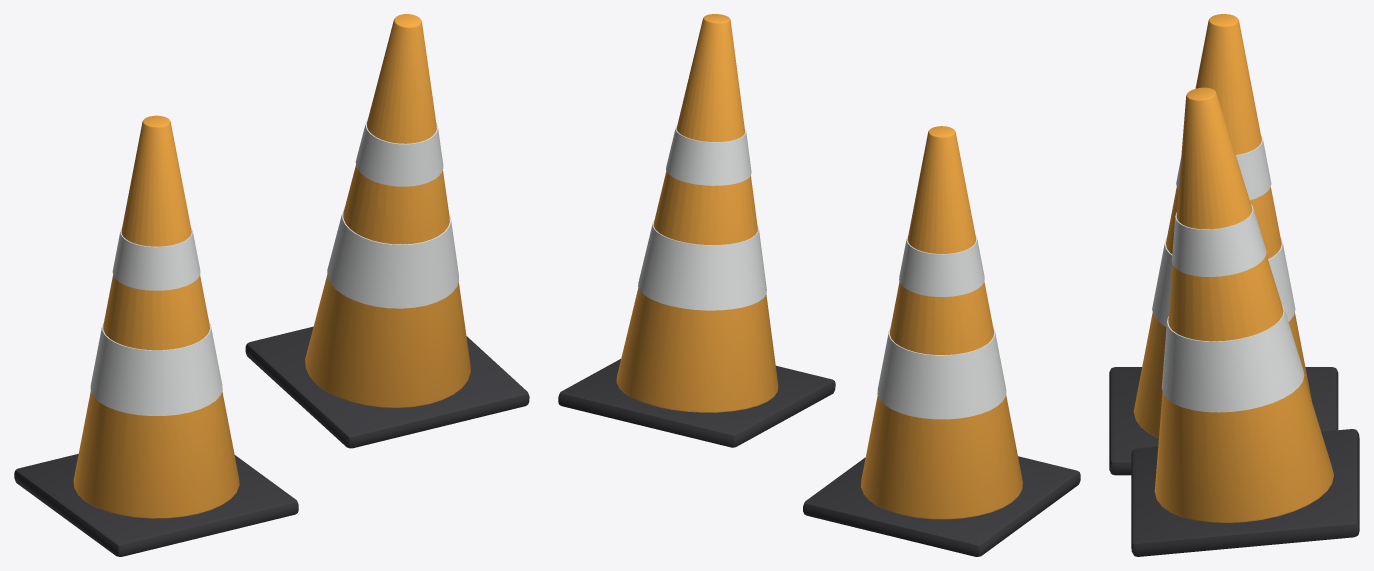
Rendered from SER-EPC-003_anim.glb.
3 renders of one model, left to right at view 1: azimuth 30°, elevation 25°; view 2: azimuth 150°, elevation 25°; view 3: azimuth 270°, elevation 25°, orthographic. The views are drawn at different scales.
Visible parts, largest first — view 1: SER-EPC-003_anim1, SER-EPC-003_anim0; view 2: SER-EPC-003_anim0, SER-EPC-003_anim1; view 3: SER-EPC-003_anim1, SER-EPC-003_anim0.
Boxes of the visible parts, left/top/right/bottom form: SER-EPC-003_anim1: left=245, top=14, right=529, bottom=448; SER-EPC-003_anim0: left=14, top=115, right=298, bottom=556; SER-EPC-003_anim0: left=803, top=126, right=1080, bottom=556; SER-EPC-003_anim1: left=558, top=14, right=835, bottom=447; SER-EPC-003_anim1: left=1131, top=87, right=1359, bottom=556; SER-EPC-003_anim0: left=1109, top=14, right=1338, bottom=475.
Bounding box in the file's own units: 0.88 × 0.8503 × 0.4155.
